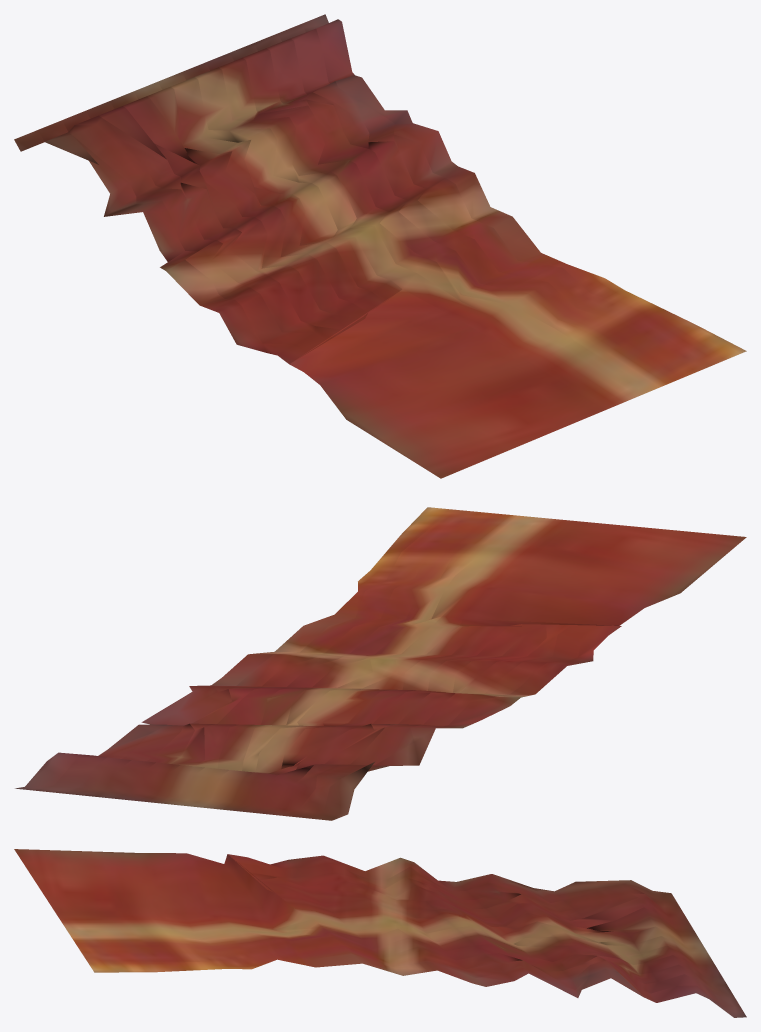
The model's file is banner.glb.
3 renders of one model, top to bottom at view 1: azimuth 30°, elevation 25°; view 2: azimuth 150°, elevation 25°; view 3: azimuth 270°, elevation 25°, orthographic. The views are drawn at different scales.
Parts seen in each view (by area): view 1: banner.ms3d.mo; view 2: banner.ms3d.mo; view 3: banner.ms3d.mo.
Boxes of the visible parts, left/top/right/bottom form: banner.ms3d.mo: left=14, top=14, right=746, bottom=478; banner.ms3d.mo: left=15, top=507, right=746, bottom=820; banner.ms3d.mo: left=14, top=849, right=746, bottom=1017.
Bounding box in the file's own units: 67.7 × 6.55 × 148.
Materials: 1 (1 with a texture image).
